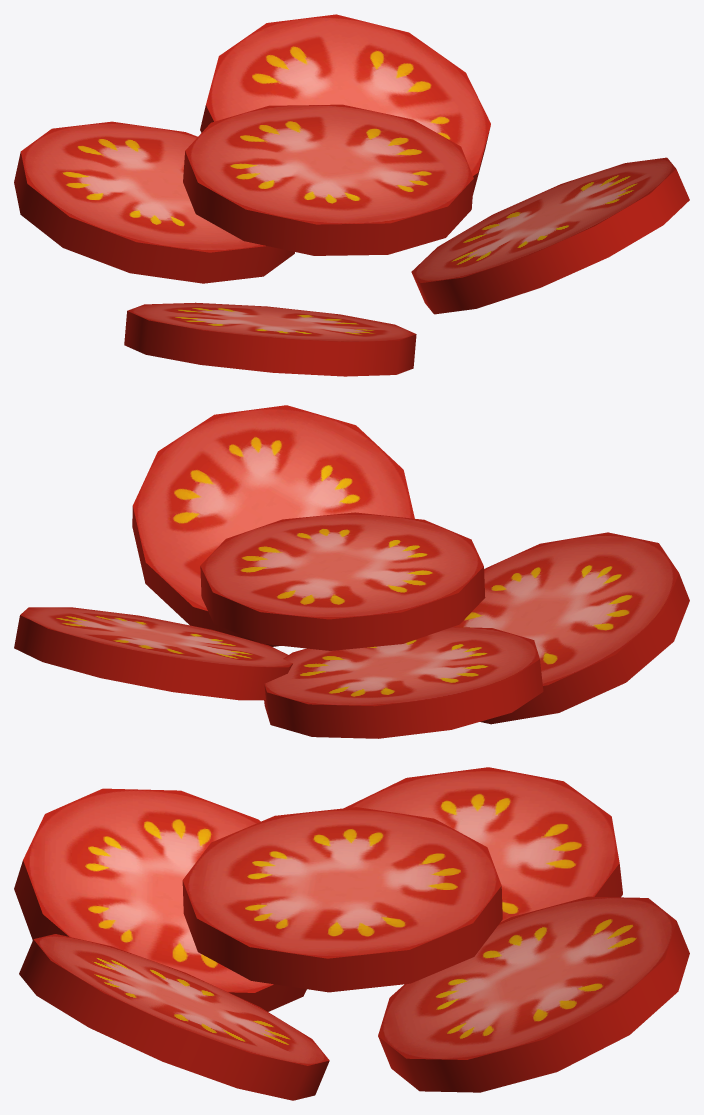
Rendered from Salad_Tomato.fbx.
3 renders of one model, top to bottom at view 1: azimuth 30°, elevation 25°; view 2: azimuth 150°, elevation 25°; view 3: azimuth 270°, elevation 25°, orthographic. The views are drawn at different scales.
Parts seen in each view (by area): view 1: Salad_Tomato; view 2: Salad_Tomato; view 3: Salad_Tomato.
Boxes of the visible parts, x1=… form: Salad_Tomato: x1=14, y1=14, x2=689, y2=376; Salad_Tomato: x1=14, y1=405, x2=689, y2=738; Salad_Tomato: x1=14, y1=767, x2=689, y2=1100.
Bounding box in the file's own units: 0.6384 × 0.1894 × 0.6382.
Materials: 1 (1 with a texture image).
